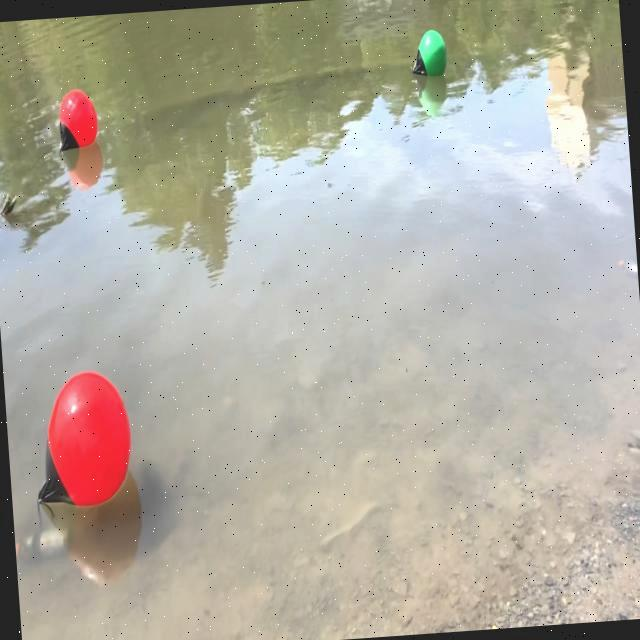buoy: (26, 364, 138, 512), (54, 84, 102, 156), (408, 26, 450, 81)
